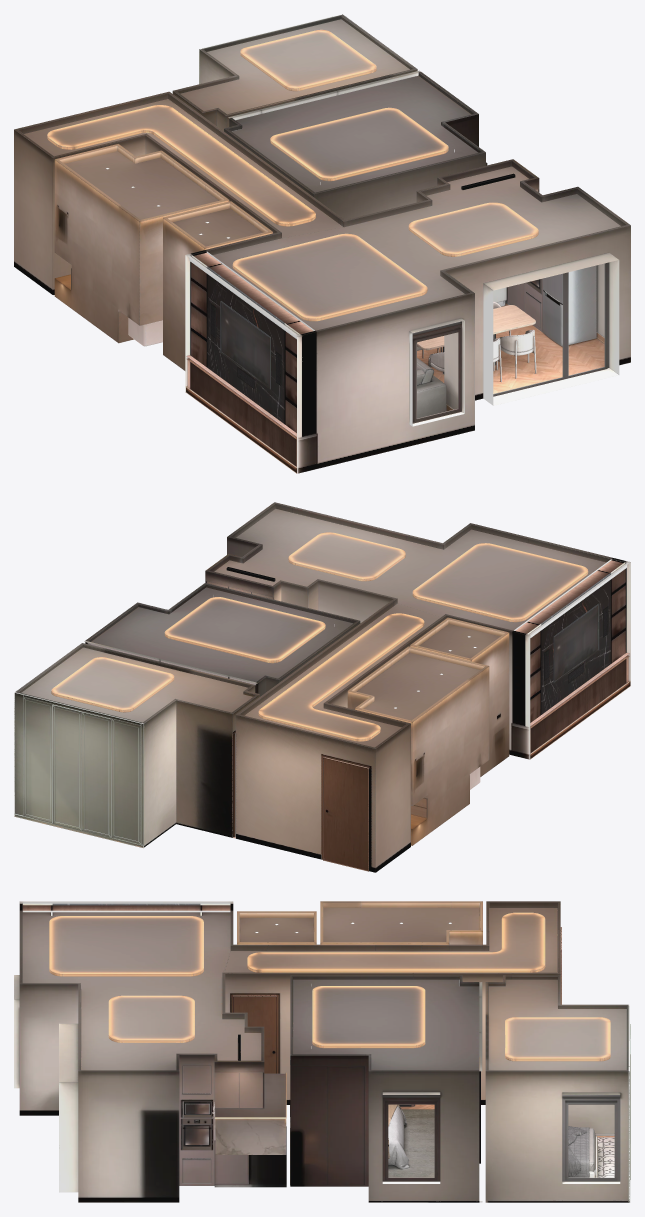
The model's file is appartement-optimized.glb.
The picture shows the model from 3 angles, top to bottom: view 1: azimuth 30°, elevation 25°; view 2: azimuth 150°, elevation 25°; view 3: azimuth 270°, elevation 25°; orthographic projection. The views are drawn at different scales.
Parts seen in each view (by area): view 1: Teto, Sala_Cozinha, Banheiros_Corredor, Quartos; view 2: Teto, Banheiros_Corredor, Quartos, Sala_Cozinha; view 3: Teto, Quartos, Sala_Cozinha, Banheiros_Corredor, Chambre01_Meuble_Lit.
Part boxes in pixels (x1,y1,x2,y2): Teto: (14, 14, 630, 339); Sala_Cozinha: (185, 178, 630, 473); Banheiros_Corredor: (14, 130, 277, 370); Quartos: (172, 14, 487, 219); Teto: (15, 502, 630, 748); Banheiros_Corredor: (235, 616, 509, 872); Quartos: (14, 595, 360, 847); Sala_Cozinha: (205, 537, 630, 759); Teto: (19, 901, 629, 1071); Quartos: (290, 984, 630, 1202); Sala_Cozinha: (14, 903, 286, 1202); Banheiros_Corredor: (225, 901, 561, 1104); Chambre01_Meuble_Lit: (388, 1104, 595, 1177).
Bounding box in the file's own units: 7.05 × 2.51 × 10.66.
5 materials, 5 textured.
